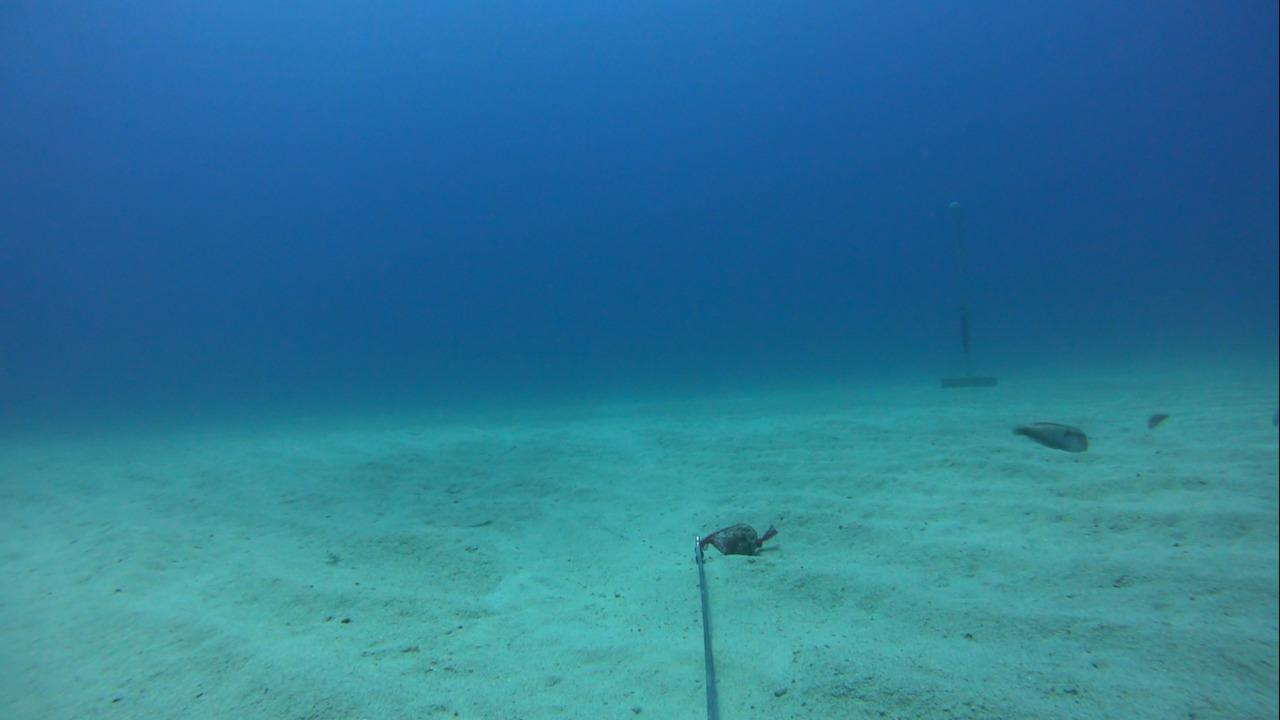raor: (1003, 410, 1099, 456), (1137, 407, 1171, 429)
